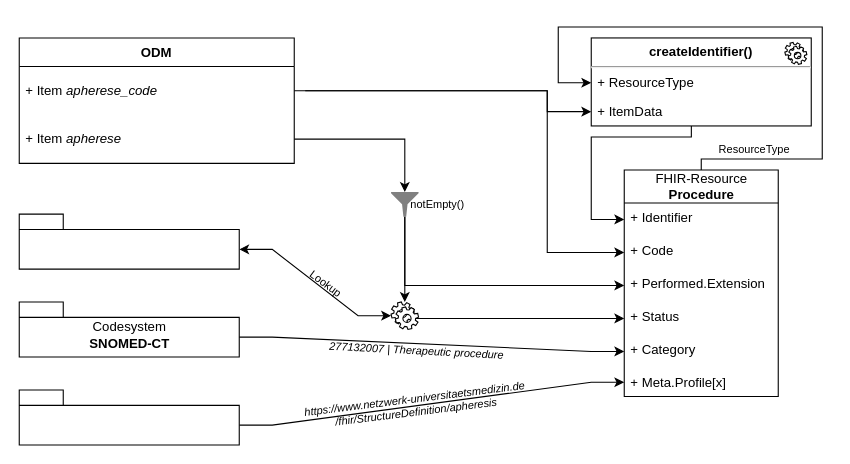
Some shapes in this 850 by 464 pixel diagram are drawn without their labels. The shapes that lost their labels are listed below. From the top down, each one's centre as x and y in pixels, then its label:
At point 128,241: "ValueSet ObservationStatus".
At point 128,417: "GECCO Profiles".
